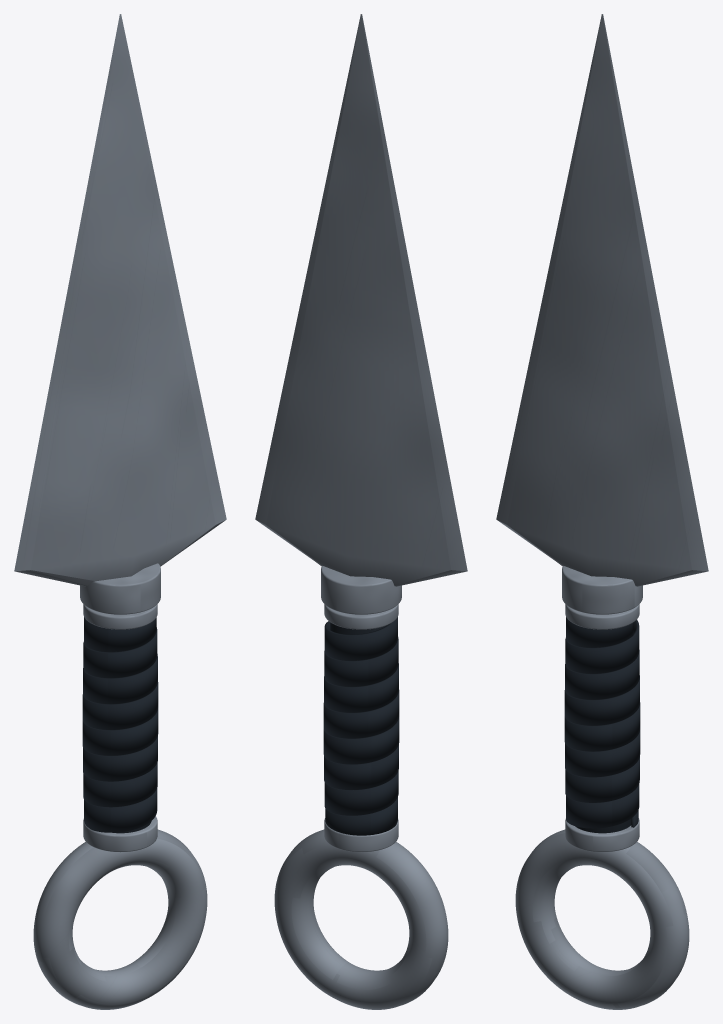
File: kunai_silver.gltf
The picture shows the model from 3 angles, left to right: view 1: azimuth 30°, elevation 25°; view 2: azimuth 150°, elevation 25°; view 3: azimuth 330°, elevation 25°; orthographic projection.
Parts seen in each view (by area): view 1: 01_forged_blade, 07_pommel_ring, 06_woven_grip_binding, 02_blade_socket, 05_grip_collar_lower, 04_grip_collar_upper; view 2: 01_forged_blade, 07_pommel_ring, 06_woven_grip_binding, 02_blade_socket, 05_grip_collar_lower, 04_grip_collar_upper; view 3: 01_forged_blade, 07_pommel_ring, 06_woven_grip_binding, 02_blade_socket, 05_grip_collar_lower, 04_grip_collar_upper.
Boxes of the visible parts, bbox=[...] form: 01_forged_blade: bbox=[14, 14, 226, 586]; 07_pommel_ring: bbox=[33, 829, 207, 1009]; 06_woven_grip_binding: bbox=[82, 617, 158, 832]; 02_blade_socket: bbox=[80, 563, 160, 614]; 05_grip_collar_lower: bbox=[83, 816, 157, 852]; 04_grip_collar_upper: bbox=[83, 604, 157, 629]; 01_forged_blade: bbox=[255, 14, 467, 586]; 07_pommel_ring: bbox=[274, 829, 448, 1009]; 06_woven_grip_binding: bbox=[323, 617, 399, 835]; 02_blade_socket: bbox=[321, 565, 401, 614]; 05_grip_collar_lower: bbox=[324, 818, 398, 852]; 04_grip_collar_upper: bbox=[324, 604, 398, 629]; 01_forged_blade: bbox=[496, 14, 708, 586]; 07_pommel_ring: bbox=[515, 829, 689, 1009]; 06_woven_grip_binding: bbox=[564, 617, 640, 828]; 02_blade_socket: bbox=[562, 565, 642, 614]; 05_grip_collar_lower: bbox=[565, 818, 639, 852]; 04_grip_collar_upper: bbox=[565, 604, 639, 629].
Size of the model in its own units: 0.2239 by 0.999 by 0.074.
Materials: 2 (2 with a texture image).
